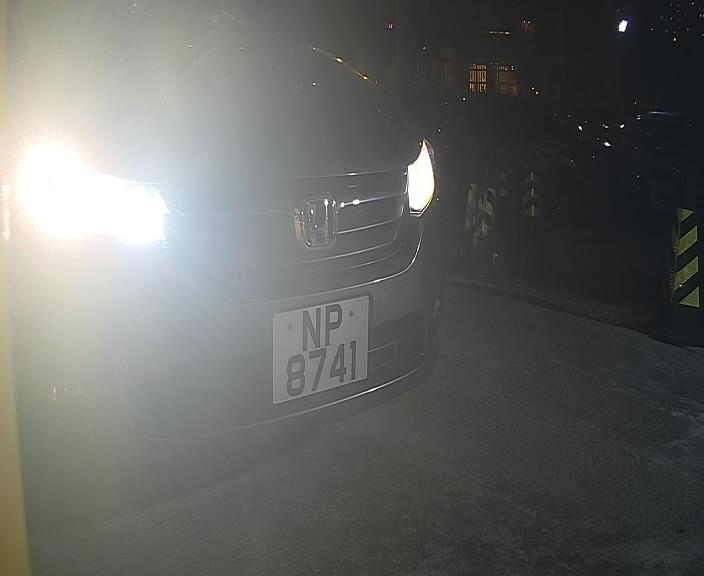License Plate: (265, 289, 378, 409)
